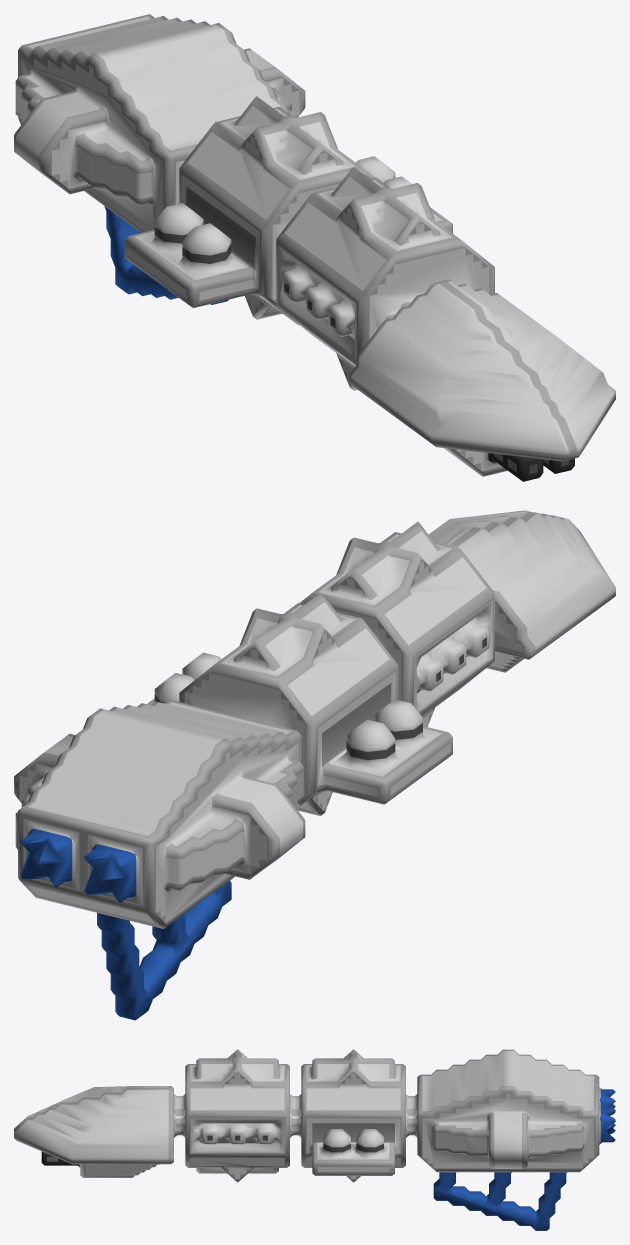
File: diadochi-3-morgoth-class.obj
The picture shows the model from 3 angles, top to bottom: view 1: azimuth 30°, elevation 25°; view 2: azimuth 150°, elevation 25°; view 3: azimuth 270°, elevation 25°; orthographic projection. The views are drawn at different scales.
Size of the model in its own units: 33 by 34 by 109.
1 material, 1 textured.
